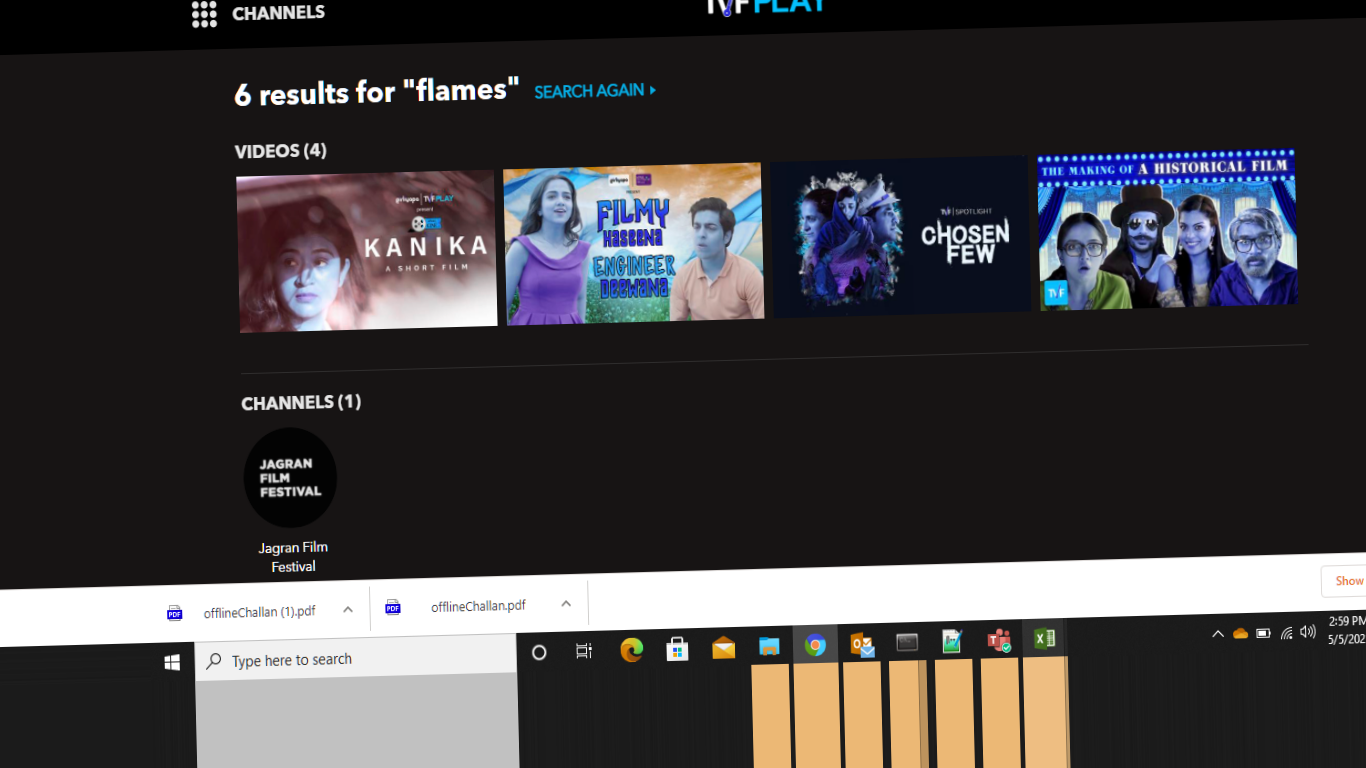resultsfound: (200, 63, 685, 133)
